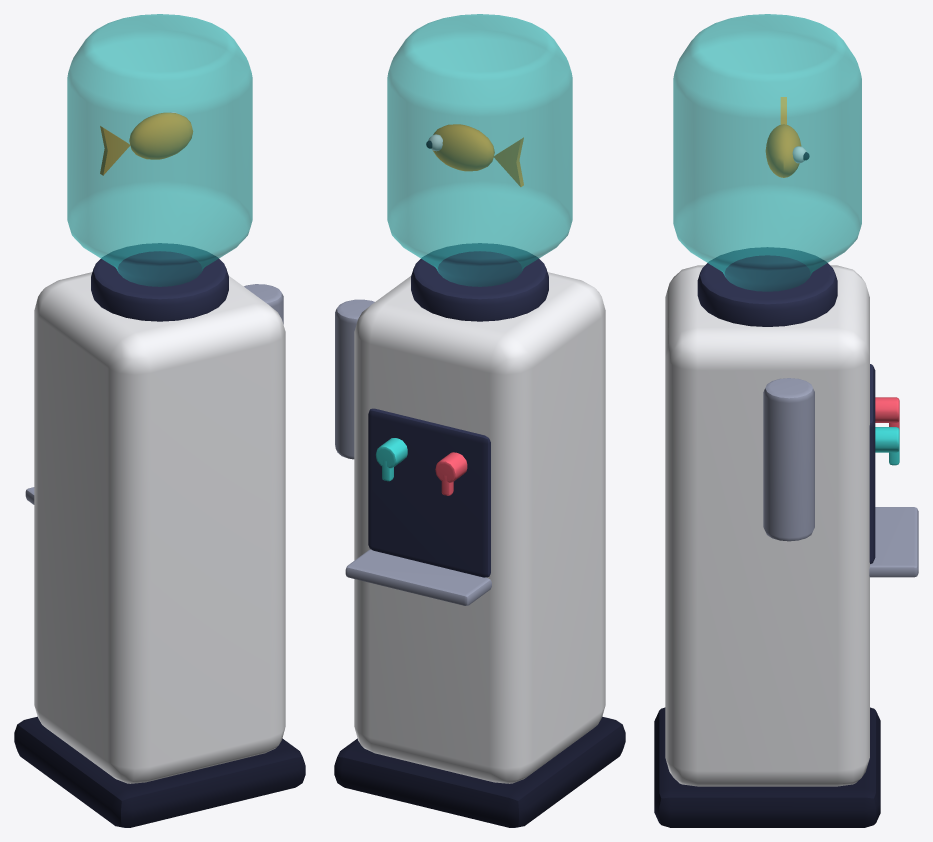
The model's file is water_cooler.glb.
3 renders of one model, left to right at view 1: azimuth 30°, elevation 25°; view 2: azimuth 150°, elevation 25°; view 3: azimuth 270°, elevation 25°, orthographic.
Parts seen in each view (by area): view 1: Body; view 2: Body; view 3: Body.
Boxes of the visible parts, <box> form: Body: <box>14,14,305,827</box>; Body: <box>334,14,625,827</box>; Body: <box>654,14,918,827</box>.
Bounding box in the file's own units: 0.496 × 1.52 × 0.49.
